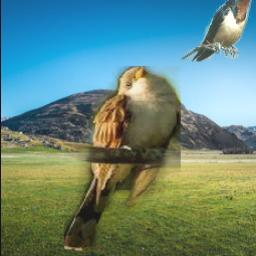Cuckoo: (64, 67, 181, 252)
Swallow: (180, 0, 254, 63)
